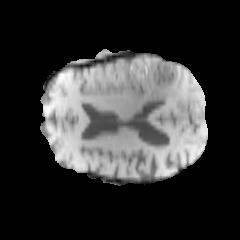glioma: (99, 55, 184, 109)
